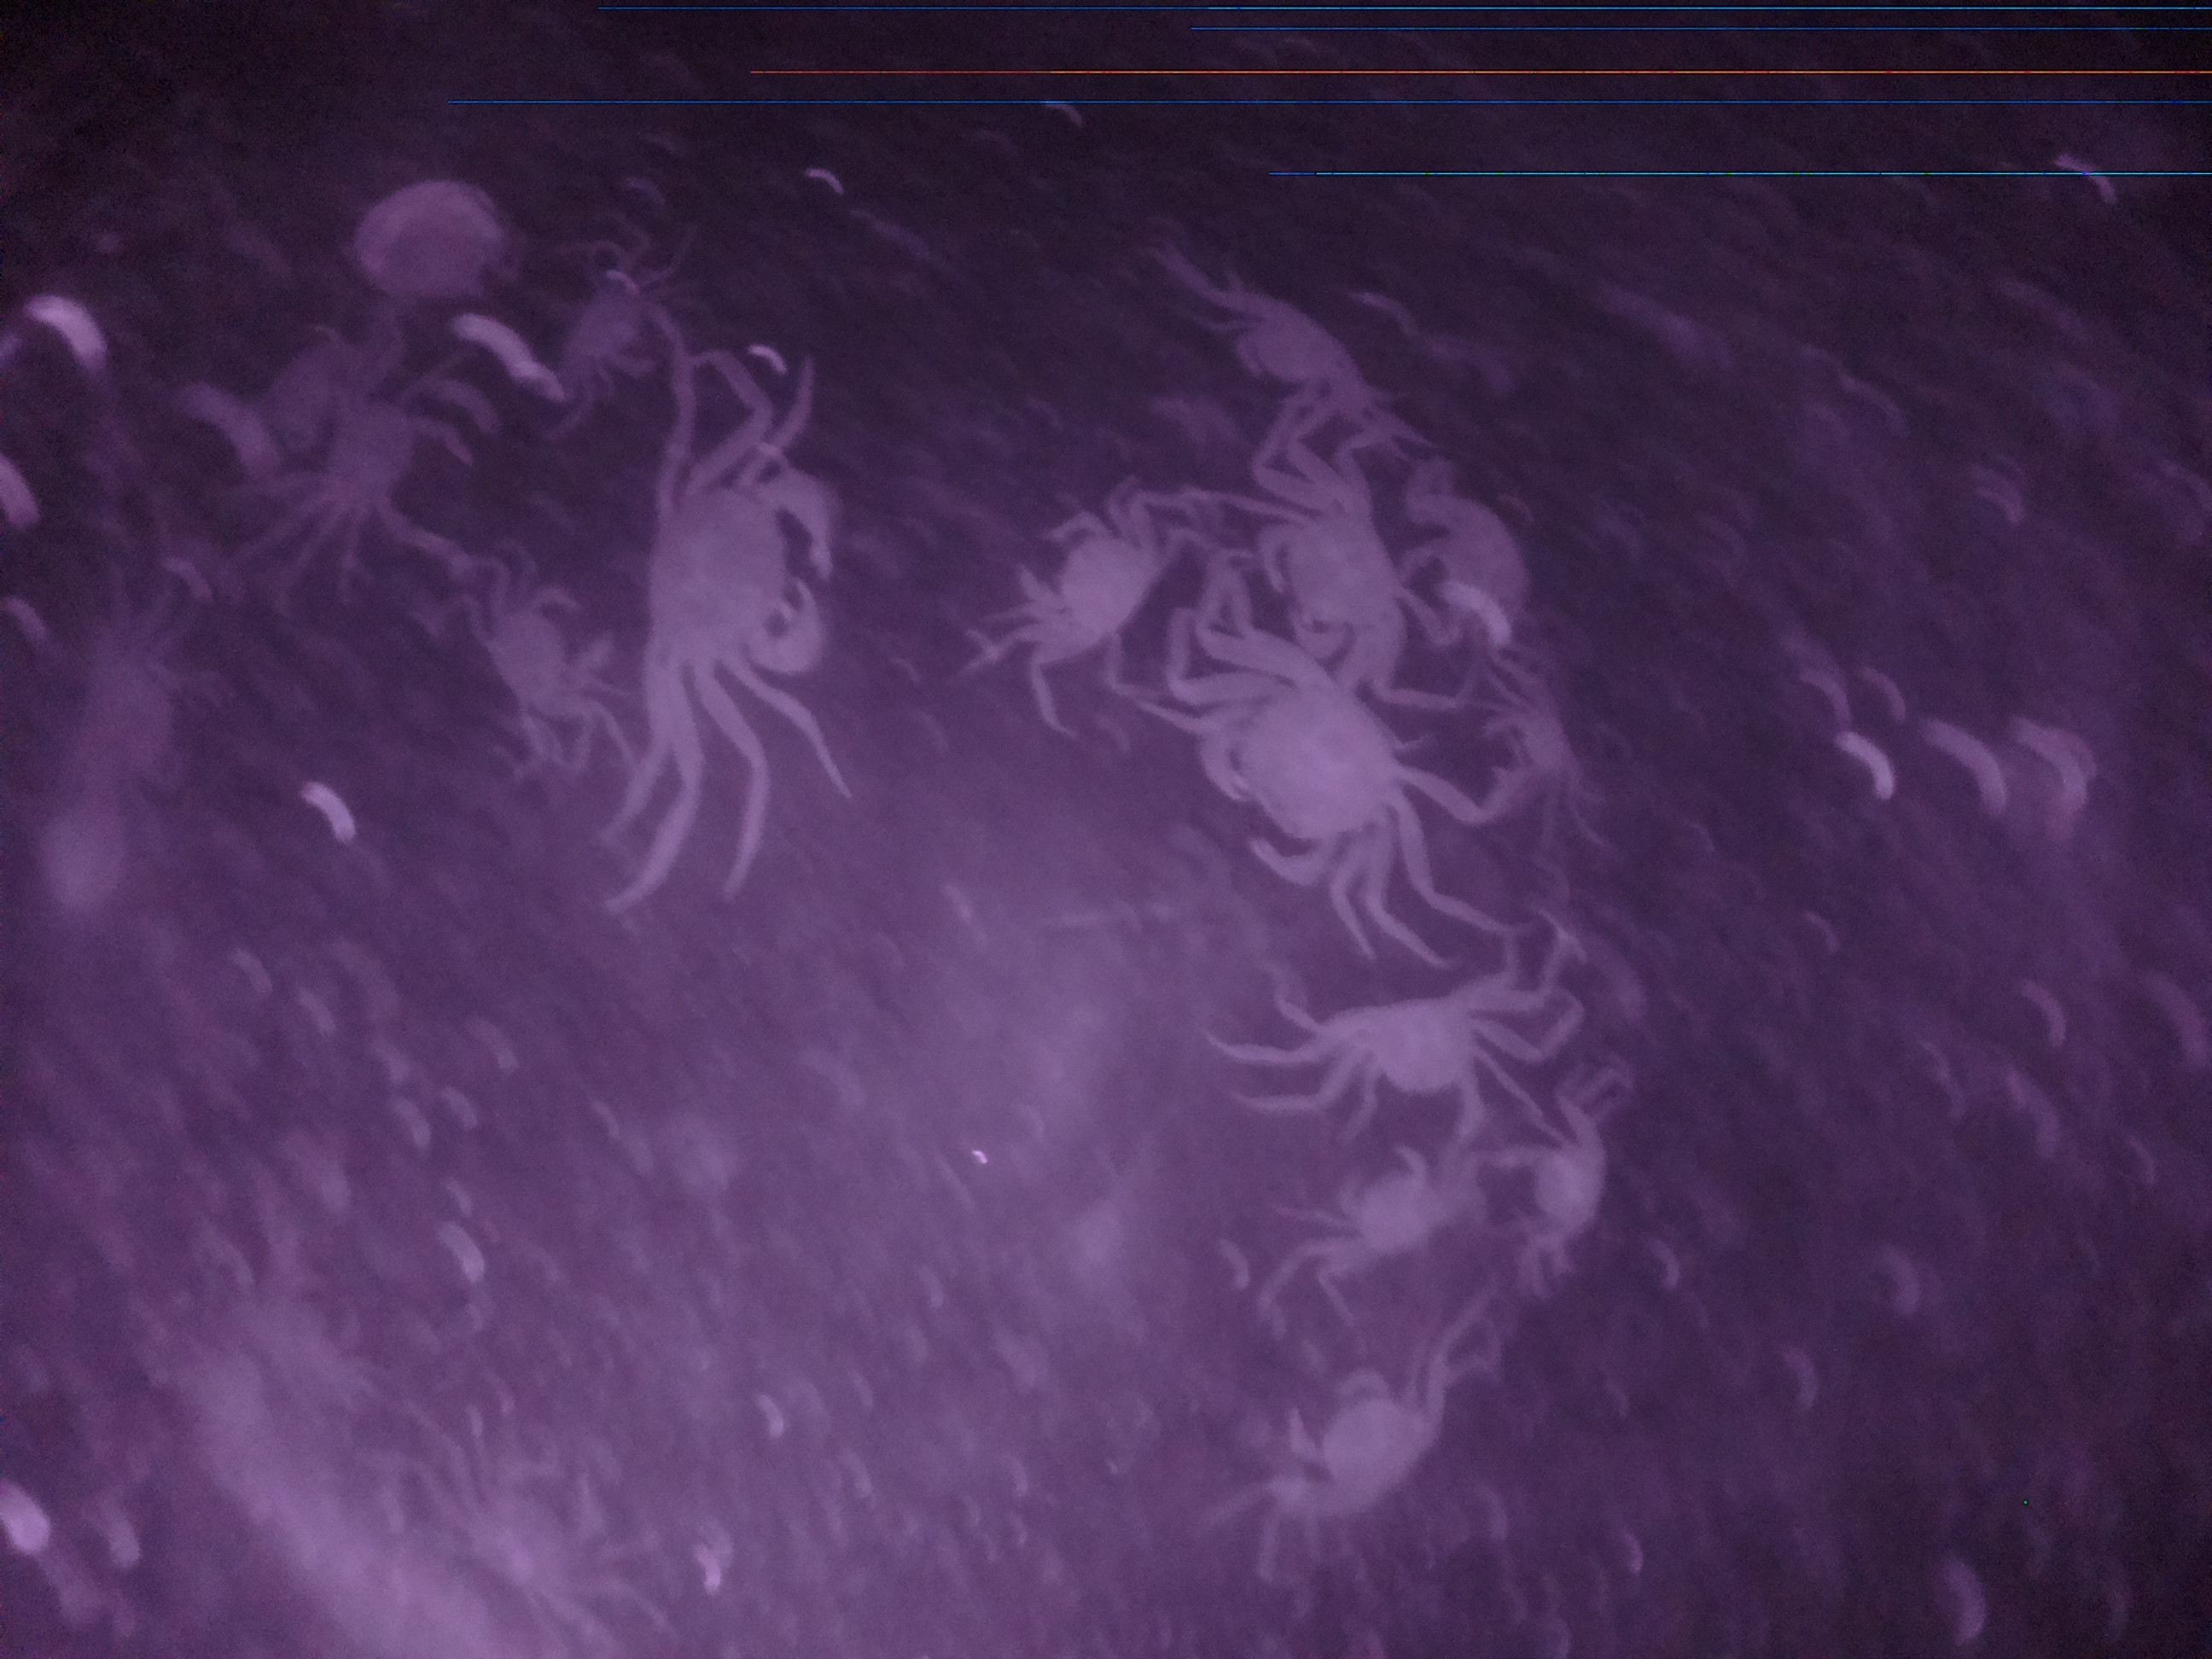Crab: (632, 436, 850, 714), (1191, 648, 1414, 899), (1289, 965, 1522, 1134), (1226, 484, 1425, 676), (1000, 493, 1179, 671)
